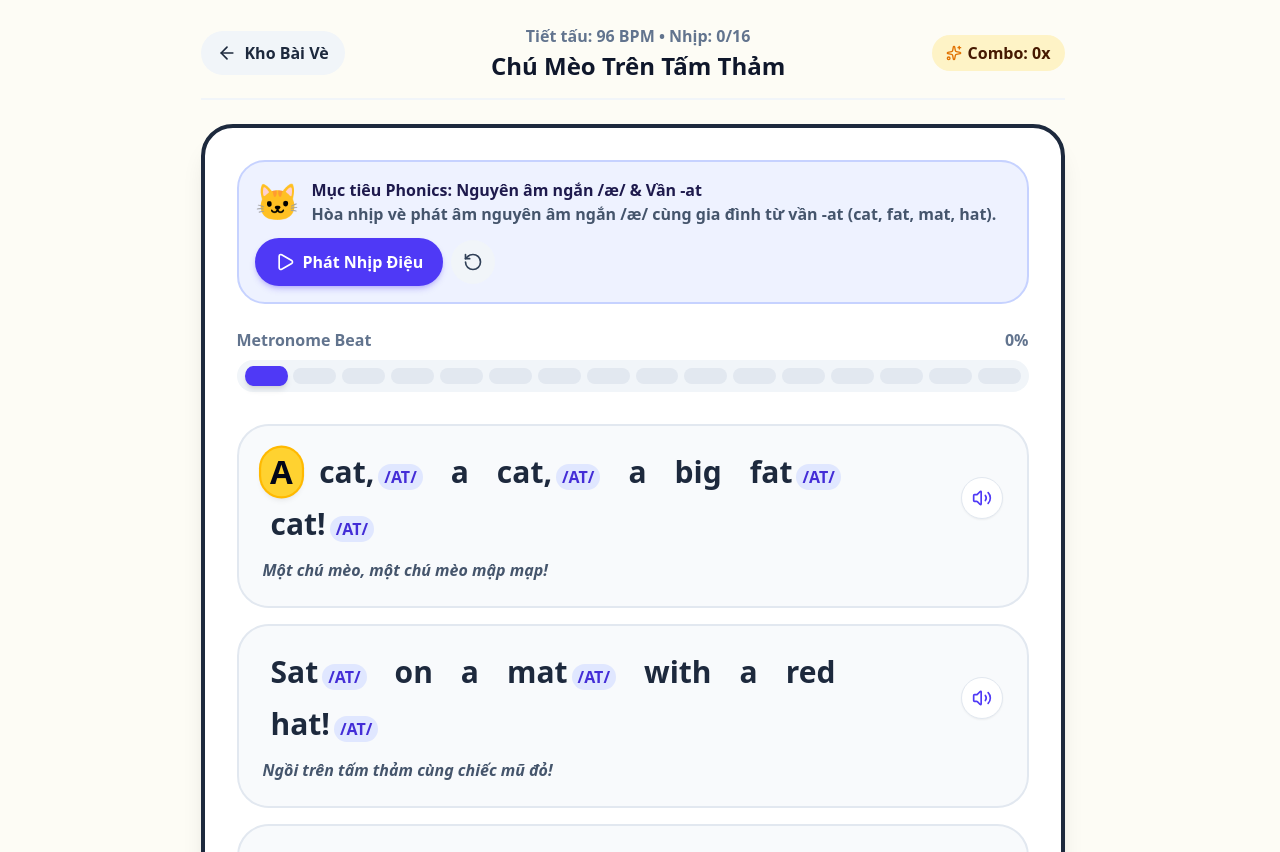
Test case: KaraokeChantStudio Component › advances beats and shows completion modal when reaching totalBeats
This screenshot has width=1280, height=852.
Click the button "Phát Nhịp Điệu": (349, 262) left=254, top=238, right=443, bottom=286
Wait 20000 ms
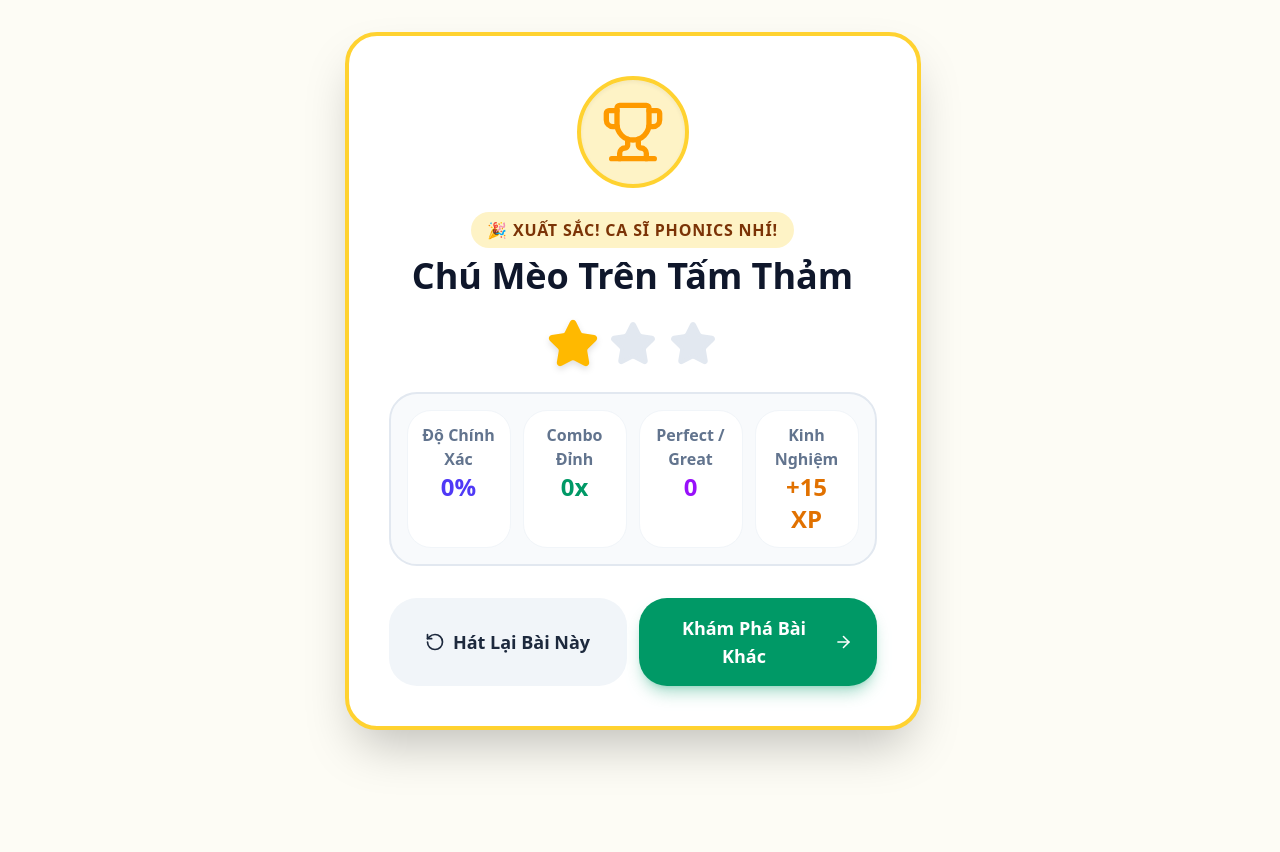
Now the dialog named "chúc mừng hoàn thành bài vè" is shown, box left=344, top=32, right=920, bottom=730
